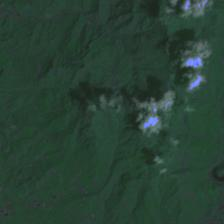landslides: (151, 34, 168, 46), (155, 18, 165, 32), (198, 72, 208, 84), (148, 18, 157, 30)
